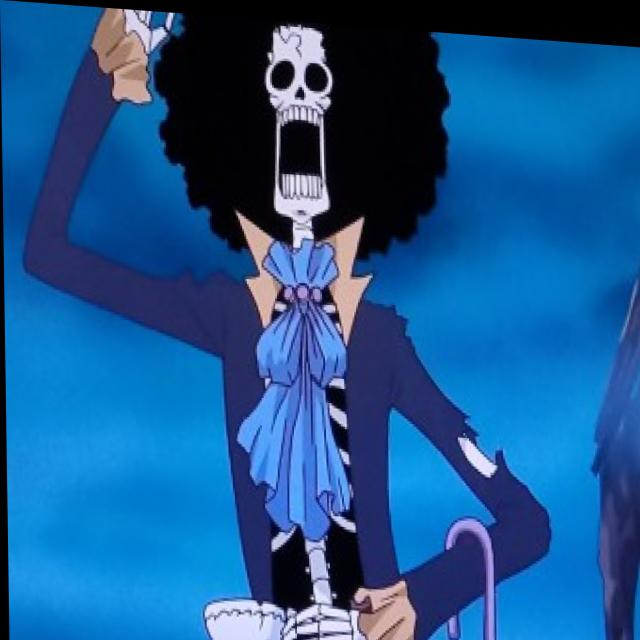Blook: (156, 9, 423, 265)
